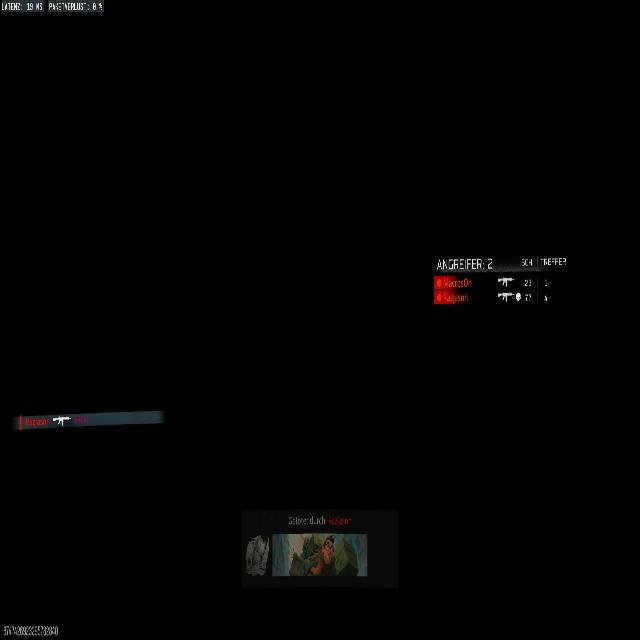player: (289, 534, 359, 575)
